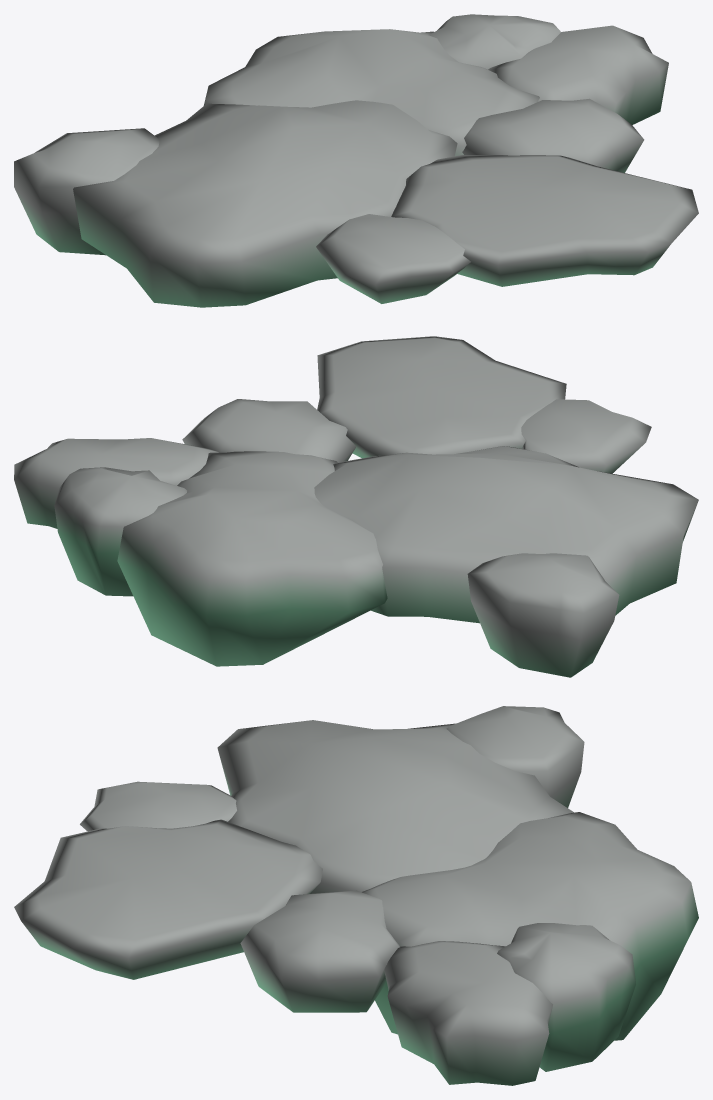
The picture shows the model from 3 angles, top to bottom: view 1: azimuth 30°, elevation 25°; view 2: azimuth 150°, elevation 25°; view 3: azimuth 270°, elevation 25°; orthographic projection. The views are drawn at different scales.
Parts seen in each view (by area): view 1: G:\FFXIV-MapTools\exports\y6t1\bg\ex5\02_ykt_y6\twn\y6t1\bgp; view 2: G:\FFXIV-MapTools\exports\y6t1\bg\ex5\02_ykt_y6\twn\y6t1\bgp; view 3: G:\FFXIV-MapTools\exports\y6t1\bg\ex5\02_ykt_y6\twn\y6t1\bgp.
Boxes of the visible parts, box(x1,y1,x2,y2) form: G:\FFXIV-MapTools\exports\y6t1\bg\ex5\02_ykt_y6\twn\y6t1\bgp: box(14, 14, 698, 307); G:\FFXIV-MapTools\exports\y6t1\bg\ex5\02_ykt_y6\twn\y6t1\bgp: box(14, 336, 698, 677); G:\FFXIV-MapTools\exports\y6t1\bg\ex5\02_ykt_y6\twn\y6t1\bgp: box(14, 706, 698, 1085).
Size of the model in its own units: 27.7 by 6.8 by 24.97.
